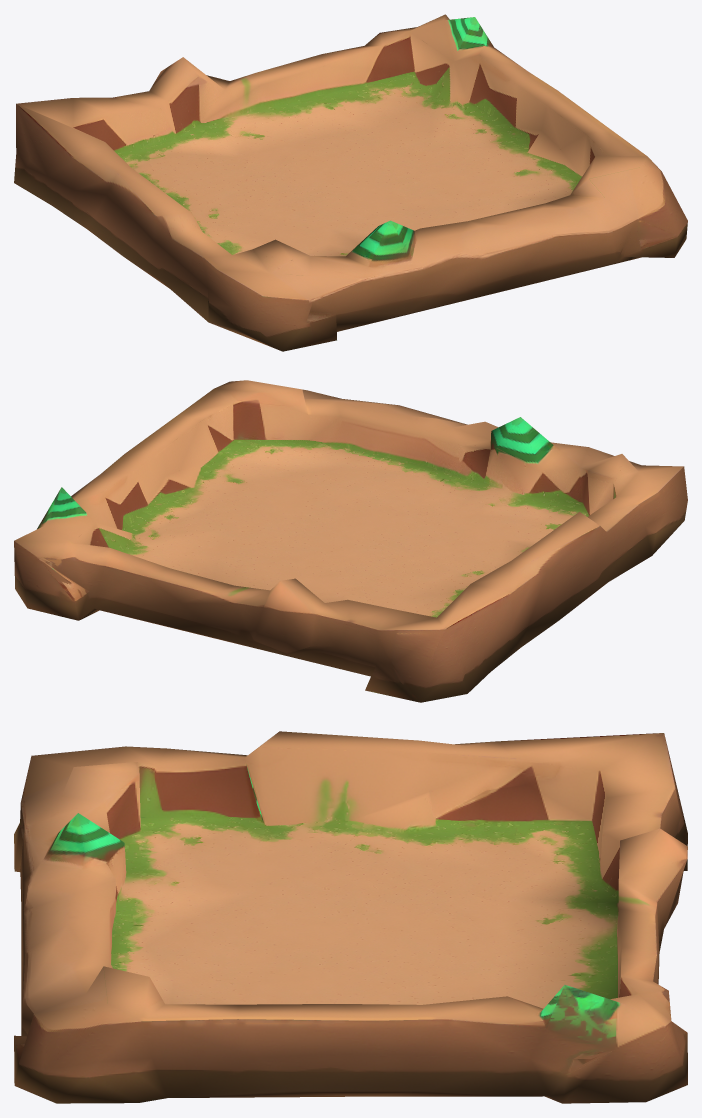
File: forestground.glb
3 views of the same model, one above another, from view 1: azimuth 30°, elevation 25°; view 2: azimuth 150°, elevation 25°; view 3: azimuth 270°, elevation 25° (orthographic). The views are drawn at different scales.
Visible parts, largest first — view 1: Mesh_0; view 2: Mesh_0; view 3: Mesh_0.
Part boxes in pixels (<box>): Mesh_0: <box>14,14,687,351</box>; Mesh_0: <box>14,380,687,702</box>; Mesh_0: <box>14,731,687,1103</box>.
Bounding box in the file's own units: 1.92 × 0.3414 × 1.91.
Materials: 1 (1 with a texture image).
